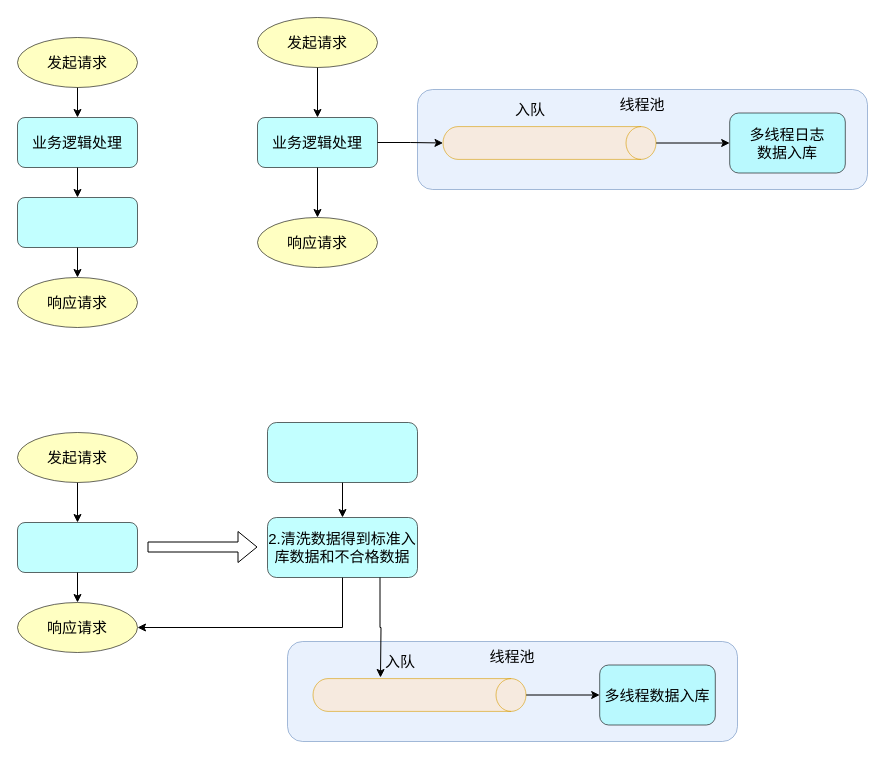
Image size: 885x759. Some labels were removed from this diagram. Here are the shapes that lost their labels. From the top down, the box of each, then its label:
(16, 196, 138, 248): 日志数据入库
(266, 422, 418, 482): 1.解析excel
(16, 522, 138, 572): excel导入逻辑
